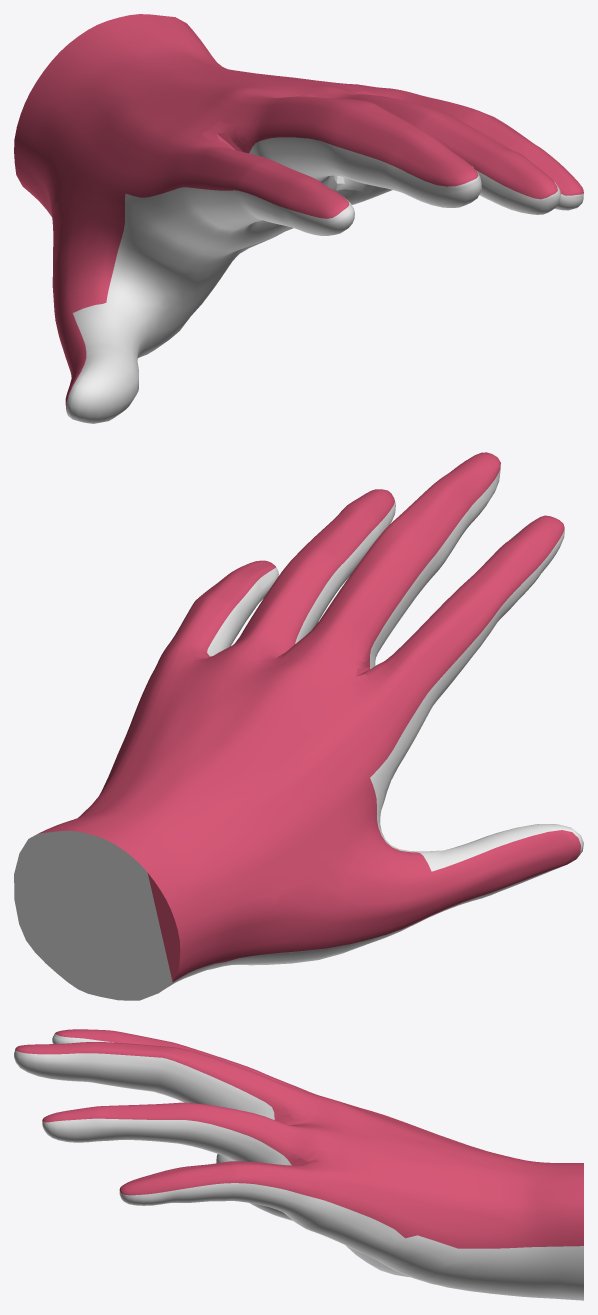
Rendered from mesh_left_h.fbx.
3 renders of one model, top to bottom at view 1: azimuth 30°, elevation 25°; view 2: azimuth 150°, elevation 25°; view 3: azimuth 270°, elevation 25°, orthographic. The views are drawn at different scales.
Visible parts, largest first — view 1: female_hand_high_l; view 2: female_hand_high_l; view 3: female_hand_high_l.
Boxes of the visible parts, x1,y1,x2,y2 form: female_hand_high_l: (14,14,583,423); female_hand_high_l: (14,452,583,1000); female_hand_high_l: (14,1029,583,1300).
Bounding box in the file's own units: 11.41 × 8.64 × 17.91.
